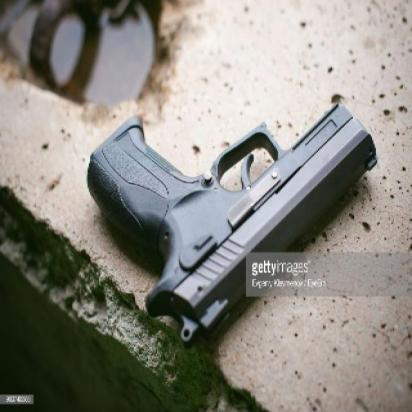Gun: (87, 94, 378, 342)
